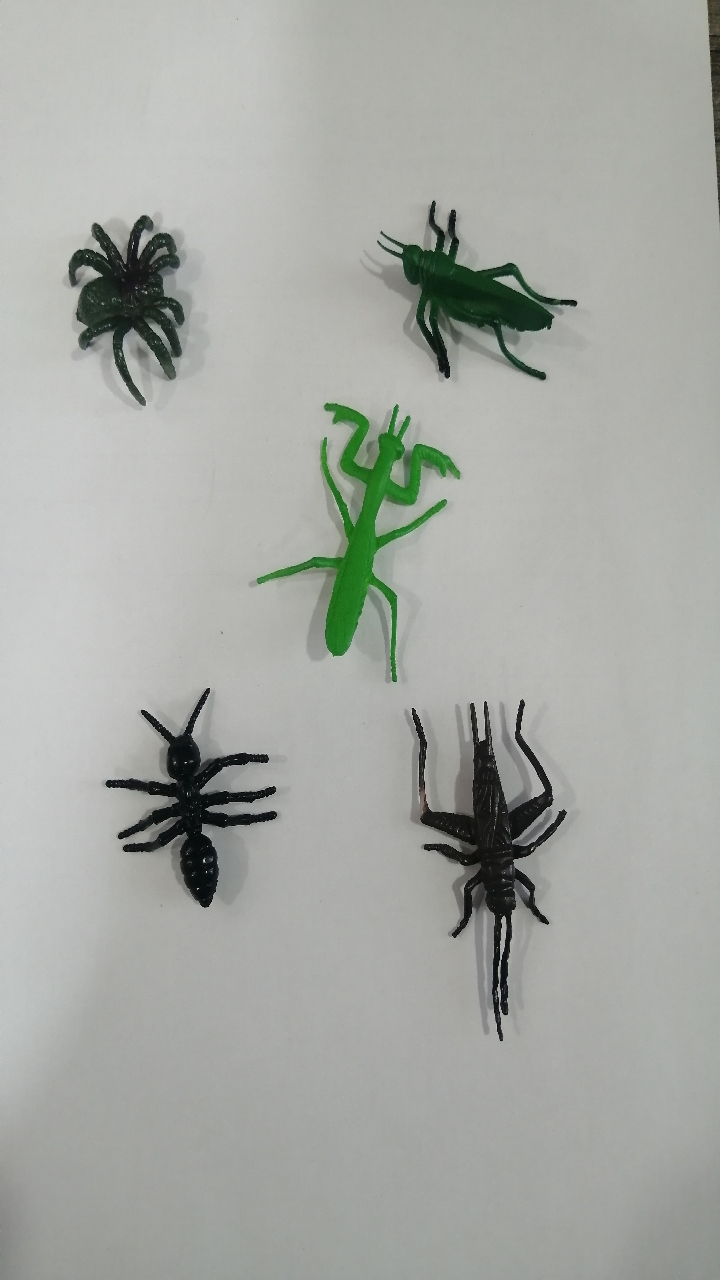intruso: (221, 392, 478, 697), (380, 675, 577, 1065), (80, 674, 304, 971), (348, 177, 591, 408), (34, 183, 212, 419)
